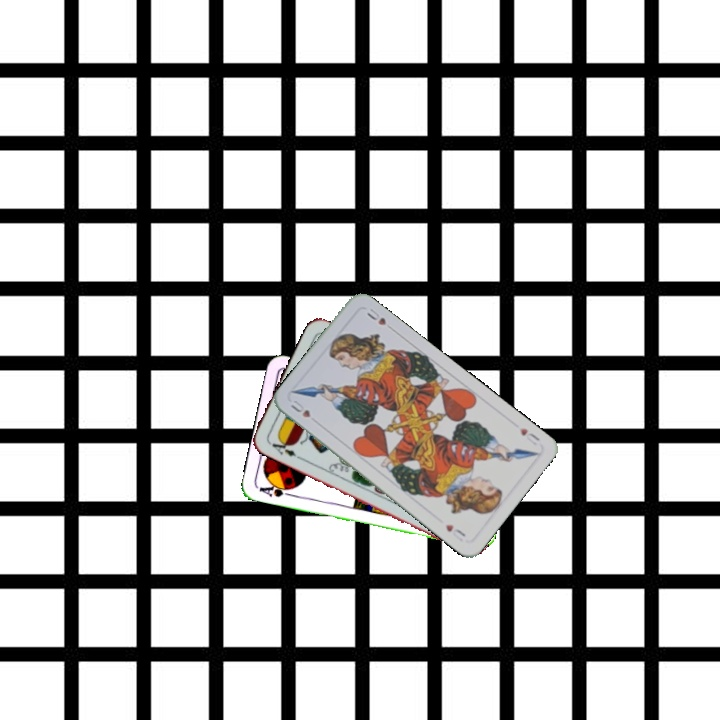EA: (265, 434, 303, 462)
HU: (515, 424, 542, 448), (287, 396, 313, 420)
SA: (255, 479, 296, 500)
